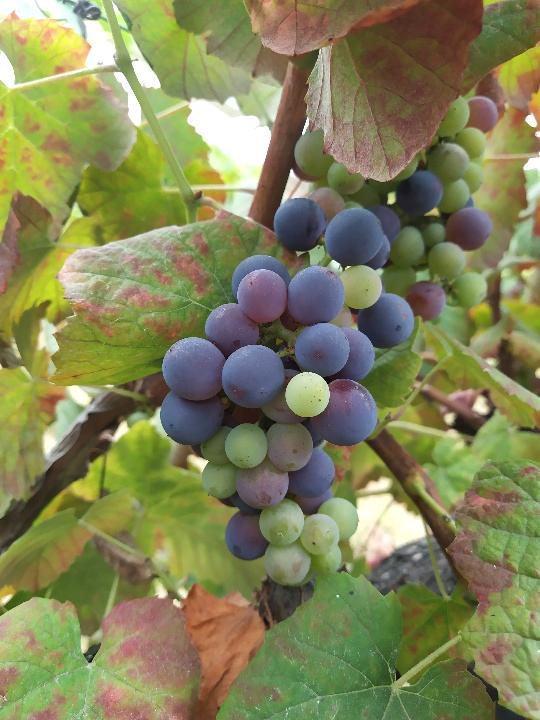grape: (156, 195, 419, 589)
